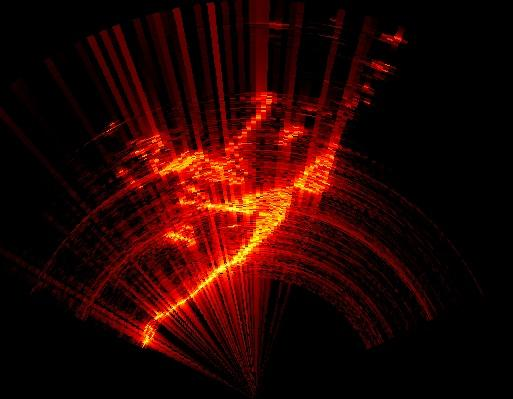shipwreck: (148, 151, 336, 345), (127, 97, 272, 181)
